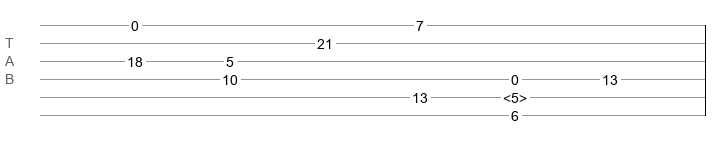0: (131, 18, 139, 28), (511, 72, 519, 82)
10: (222, 72, 238, 82)
13: (412, 90, 428, 100), (602, 72, 618, 82)
18: (127, 54, 143, 64)
21: (317, 36, 333, 46)
5: (226, 54, 234, 64)
6: (511, 108, 519, 118)
7: (416, 18, 424, 28)
harmonic: (503, 90, 527, 100)
